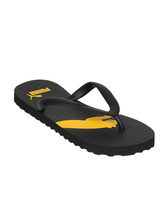shoes: (11, 73, 162, 157)
